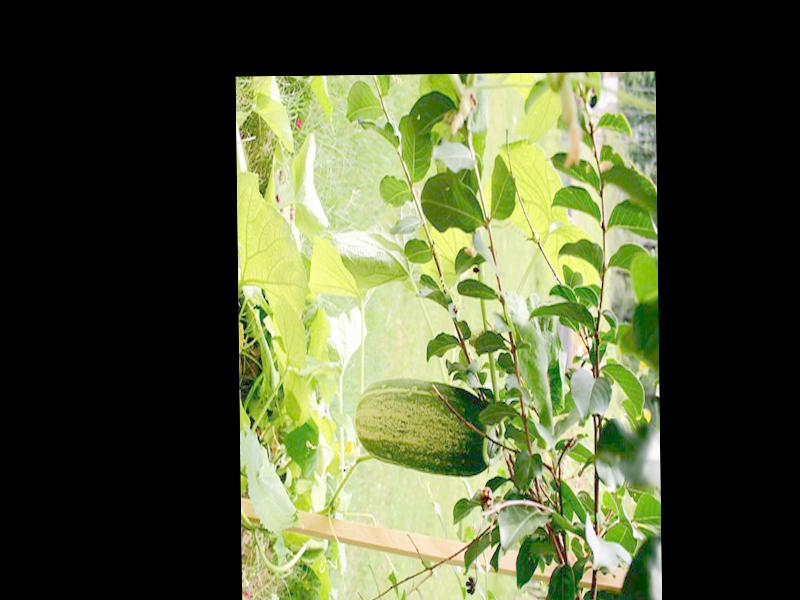Cucumber: (354, 379, 503, 480)
